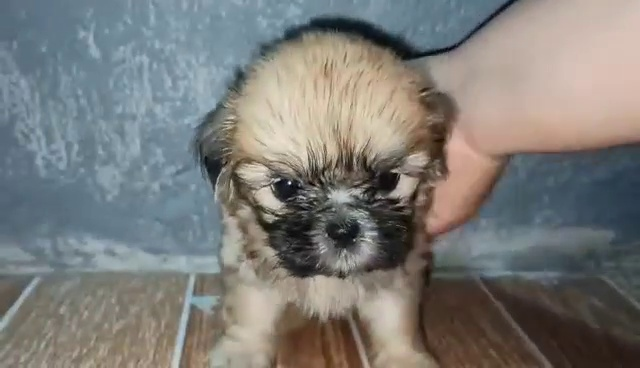dog: (195, 25, 438, 368)
